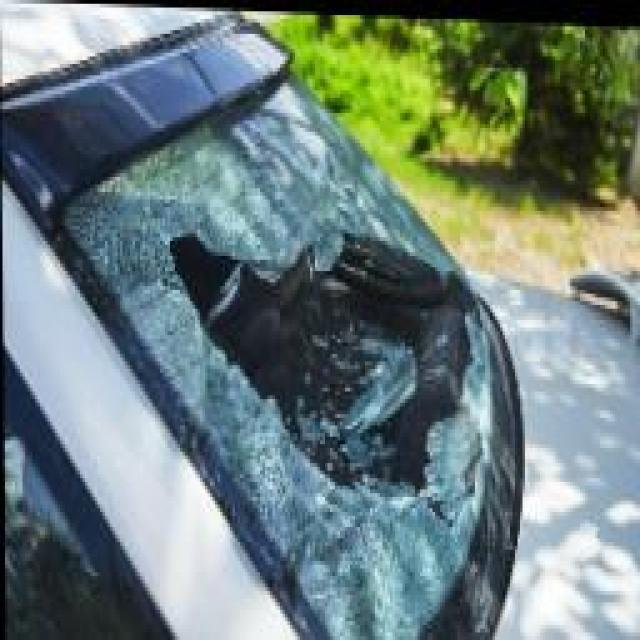Windshield: (138, 94, 474, 610)
